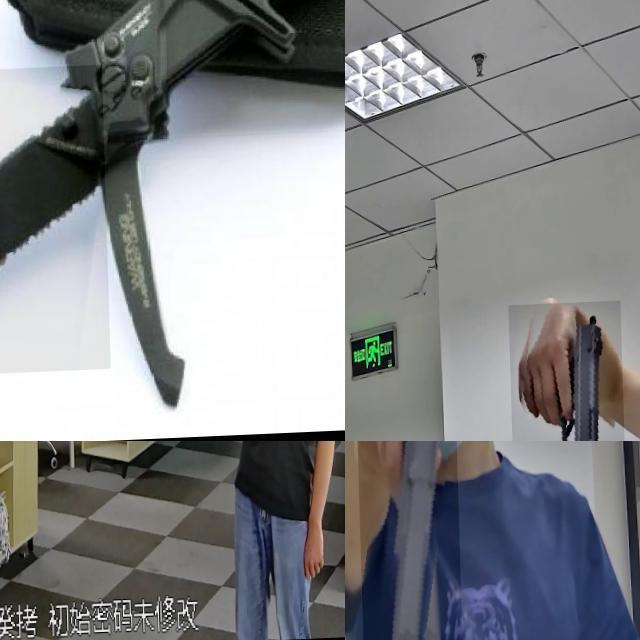-: (0, 67, 136, 380)
gun-knife-thesis - v11 Yolov5 augmented: (351, 441, 460, 640), (506, 304, 623, 441), (207, 441, 252, 491)
